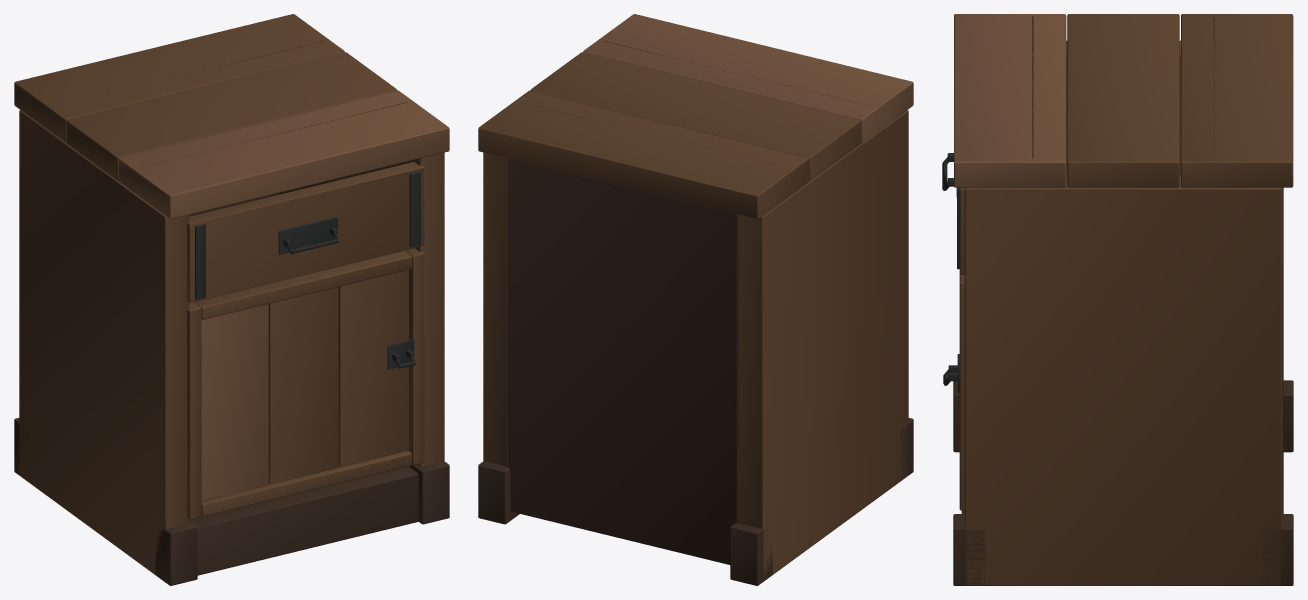
The model's file is kominka-kitchen-counter-600-01.glb.
3 views of the same model, side by side, from view 1: azimuth 30°, elevation 25°; view 2: azimuth 150°, elevation 25°; view 3: azimuth 270°, elevation 25° (orthographic). The views are drawn at different scales.
Parts seen in each view (by area): view 1: kominka-kitchen-counter-600-01; view 2: kominka-kitchen-counter-600-01; view 3: kominka-kitchen-counter-600-01.
Part boxes in pixels (box(x1,y1,x2,y2)): kominka-kitchen-counter-600-01: box(14, 14, 449, 585); kominka-kitchen-counter-600-01: box(478, 14, 913, 585); kominka-kitchen-counter-600-01: box(942, 14, 1293, 585).
Bounding box in the file's own units: 0.6 × 0.8 × 0.6.
